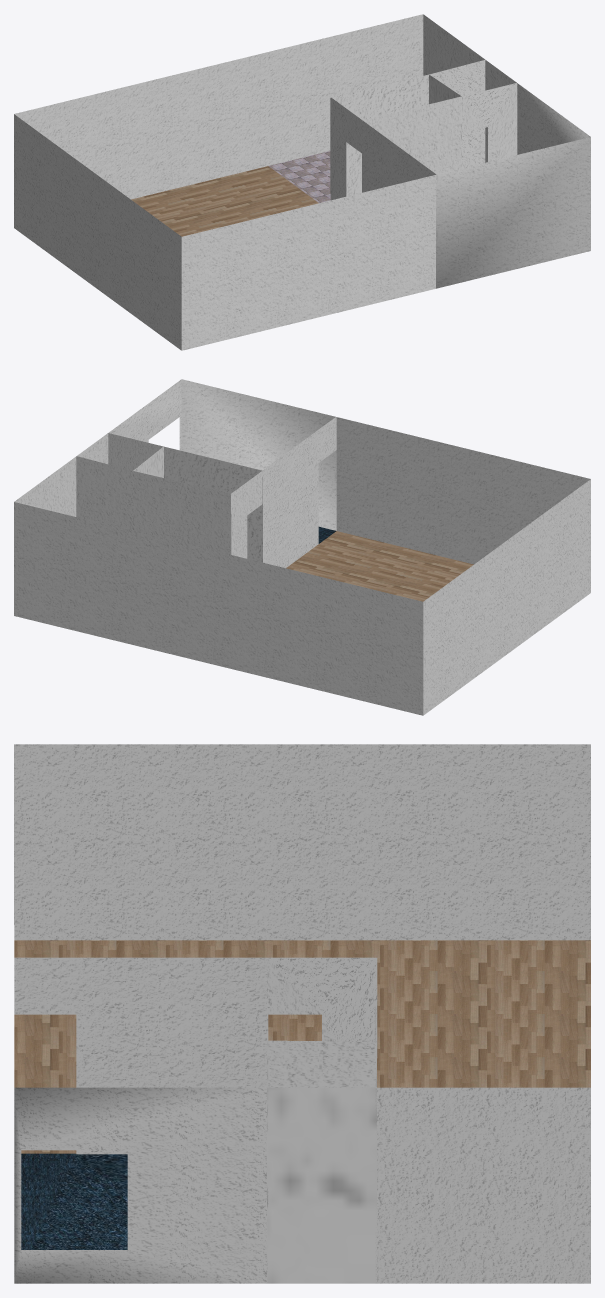
The model's file is wallsfloors.dae.
3 views of the same model, one above another, from view 1: azimuth 30°, elevation 25°; view 2: azimuth 150°, elevation 25°; view 3: azimuth 270°, elevation 25° (orthographic). The views are drawn at different scales.
Visible parts, largest first — view 1: Plane_002; view 2: Plane_002; view 3: Plane_002.
Part boxes in pixels (bbox=[...]): Plane_002: bbox=[14, 14, 590, 350]; Plane_002: bbox=[14, 379, 590, 715]; Plane_002: bbox=[14, 744, 590, 1283].
Bounding box in the file's own units: 11.27 × 8 × 3.
5 materials, 4 textured.
